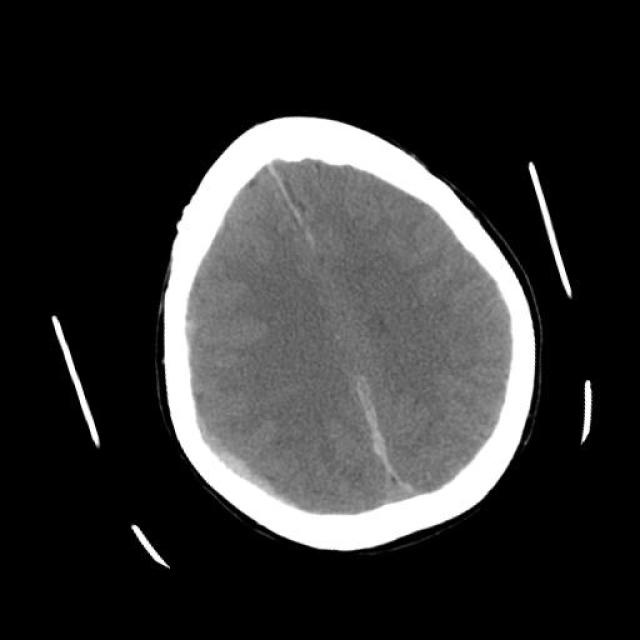Subdural: (314, 353, 448, 544), (159, 396, 311, 546)
